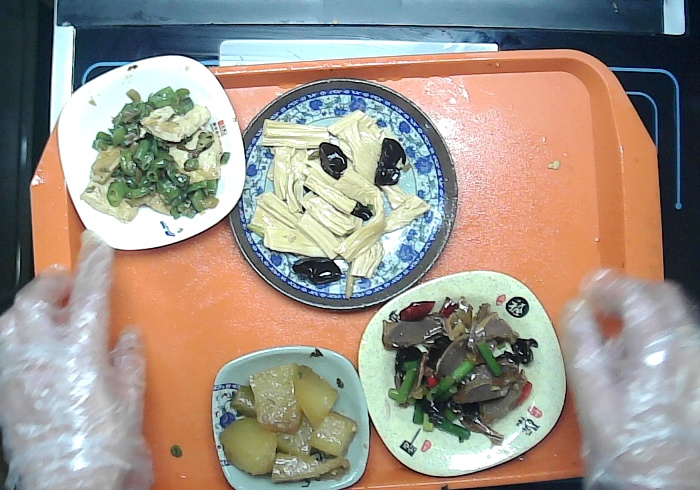NLDX-Bai_Se_Xiao_Fang_Die: (57, 51, 250, 256)
NLDX-Fu_Zi_Fang_Die: (354, 267, 570, 485)
NLDX-Qing_Hua_Xiao_Fang_Die: (198, 344, 372, 489)
NLDX-Qing_Hua_Yuan_Die: (224, 76, 460, 316)
